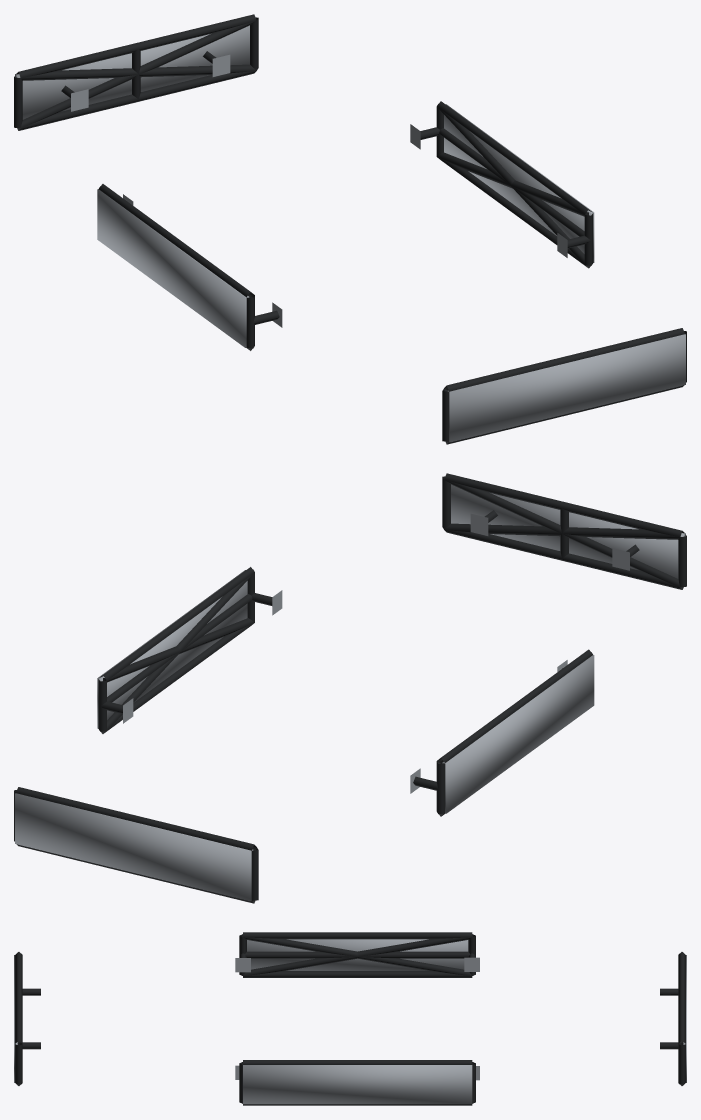
The model's file is rauhe_argila_protecao.glb.
The picture shows the model from 3 angles, top to bottom: view 1: azimuth 30°, elevation 25°; view 2: azimuth 150°, elevation 25°; view 3: azimuth 270°, elevation 25°; orthographic projection. The views are drawn at different scales.
Visible parts, largest first — view 1: Protection_front_Level3_Details, Protection_left_Level3_Details, Protection_rear_Level1_Details, Protection_rear_Level3_Details, Protection_right_Level1_Details, Protection_rear_Level2_Details, Protection_right_Level2_Details, Protection_right_Level3_Details, Protection_front_Level1_Details, Protection_left_Level1_Details; view 2: Protection_rear_Level3_Details, Protection_left_Level3_Details, Protection_front_Level1_Details, Protection_front_Level3_Details, Protection_right_Level1_Details, Protection_front_Level2_Details, Protection_right_Level2_Details, Protection_right_Level3_Details, Protection_rear_Level1_Details, Protection_left_Level1_Details; view 3: Protection_right_Level3_Details, Protection_left_Level2_Details, Protection_left_Level1_Details, Protection_left_Level3_Details, Protection_right_Level1_Details, Protection_rear_Level1_Details, Protection_front_Level1_Details.
Part boxes in pixels (x1=…): Protection_front_Level3_Details: x1=447, y1=334, x2=685, y2=442; Protection_left_Level3_Details: x1=97, y1=189, x2=249, y2=347; Protection_rear_Level1_Details: x1=14, y1=14, x2=258, y2=130; Protection_rear_Level3_Details: x1=15, y1=25, x2=249, y2=119; Protection_right_Level1_Details: x1=410, y1=101, x2=593, y2=268; Protection_rear_Level2_Details: x1=16, y1=21, x2=256, y2=129; Protection_right_Level2_Details: x1=437, y1=107, x2=592, y2=267; Protection_right_Level3_Details: x1=444, y1=104, x2=594, y2=262; Protection_front_Level1_Details: x1=442, y1=328, x2=686, y2=444; Protection_left_Level1_Details: x1=99, y1=184, x2=282, y2=350; Protection_rear_Level3_Details: x1=15, y1=793, x2=253, y2=901; Protection_left_Level3_Details: x1=442, y1=655, x2=594, y2=813; Protection_front_Level1_Details: x1=442, y1=473, x2=686, y2=589; Protection_front_Level3_Details: x1=451, y1=484, x2=685, y2=578; Protection_right_Level1_Details: x1=98, y1=567, x2=282, y2=733; Protection_front_Level2_Details: x1=444, y1=480, x2=684, y2=588; Protection_right_Level2_Details: x1=99, y1=573, x2=254, y2=733; Protection_right_Level3_Details: x1=97, y1=570, x2=247, y2=728; Protection_rear_Level1_Details: x1=14, y1=787, x2=258, y2=903; Protection_left_Level1_Details: x1=410, y1=649, x2=592, y2=816; Protection_right_Level3_Details: x1=243, y1=1065, x2=472, y2=1104; Protection_left_Level2_Details: x1=242, y1=936, x2=472, y2=976; Protection_left_Level1_Details: x1=235, y1=932, x2=479, y2=977; Protection_left_Level3_Details: x1=247, y1=939, x2=468, y2=970; Protection_right_Level1_Details: x1=235, y1=1060, x2=479, y2=1105; Protection_rear_Level1_Details: x1=660, y1=952, x2=685, y2=1085; Protection_front_Level1_Details: x1=15, y1=952, x2=40, y2=1085.
Size of the model in its own units: 2.18 by 0.354 by 4.7.
Materials: 1 (1 with a texture image).
